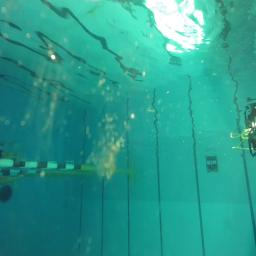Full: (248, 122, 256, 156)
front: (205, 156, 219, 171)
